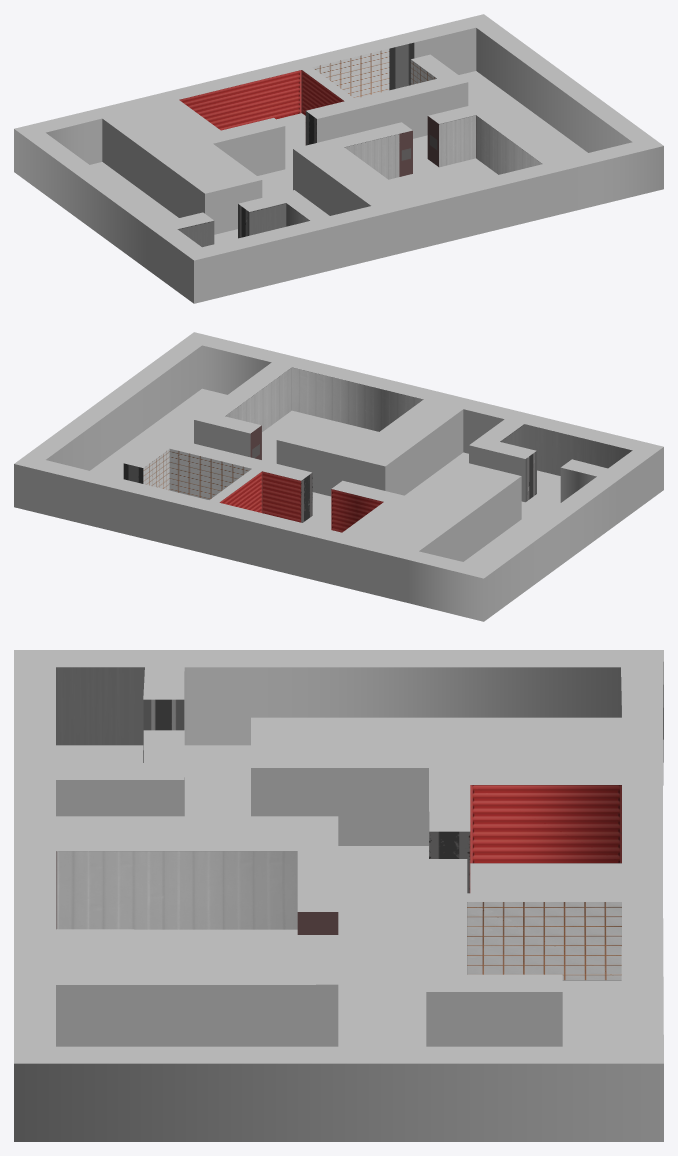
Rendered from Map.FBX.
3 renders of one model, top to bottom at view 1: azimuth 30°, elevation 25°; view 2: azimuth 150°, elevation 25°; view 3: azimuth 270°, elevation 25°, orthographic. The views are drawn at different scales.
Parts seen in each view (by area): view 1: Box001, Plane002; view 2: Box001, Plane002; view 3: Box001, Plane002.
Part boxes in pixels (left/top/right/bottom): Box001: left=14, top=14, right=663, bottom=303; Plane002: left=90, top=71, right=587, bottom=244; Box001: left=14, top=332, right=663, bottom=621; Plane002: left=90, top=388, right=560, bottom=564; Box001: left=14, top=650, right=663, bottom=1141; Plane002: left=56, top=745, right=621, bottom=1046.
Bounding box in the file's own units: 54.73 × 4.82 × 36.34.
